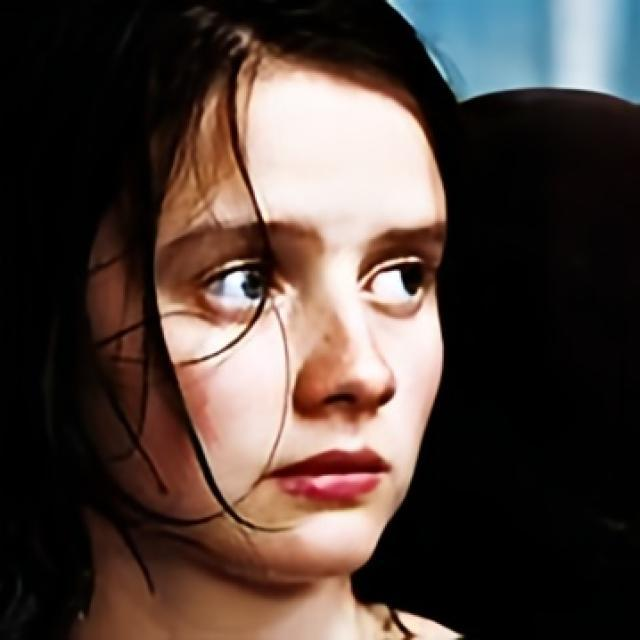fear: (84, 28, 447, 582)
